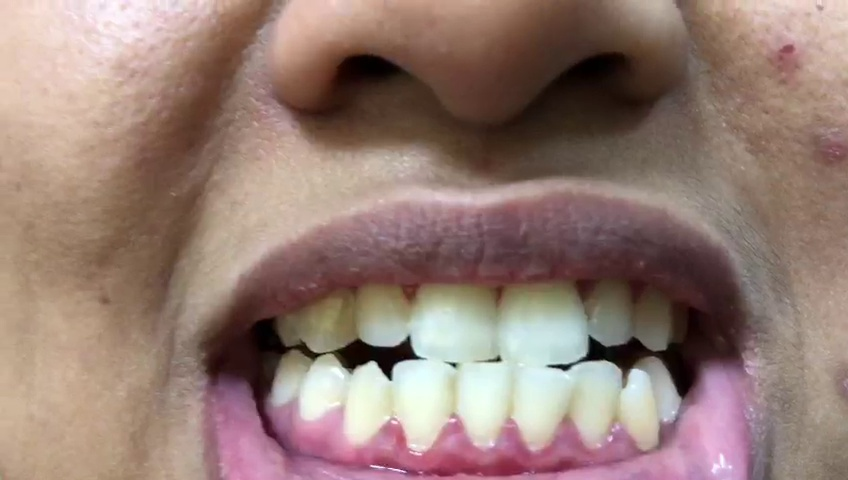1st Premolar: (300, 356, 347, 419), (641, 357, 681, 422)
2nd Premolar: (271, 348, 311, 408)
Canine: (345, 360, 391, 446), (297, 283, 353, 353), (621, 368, 661, 452), (638, 276, 671, 351)
Central Incisor: (411, 268, 499, 362), (498, 275, 590, 363), (510, 359, 569, 455), (456, 362, 509, 451)
Lateral Incisor: (393, 357, 456, 457), (569, 362, 620, 450), (356, 269, 411, 347), (585, 274, 635, 345)
